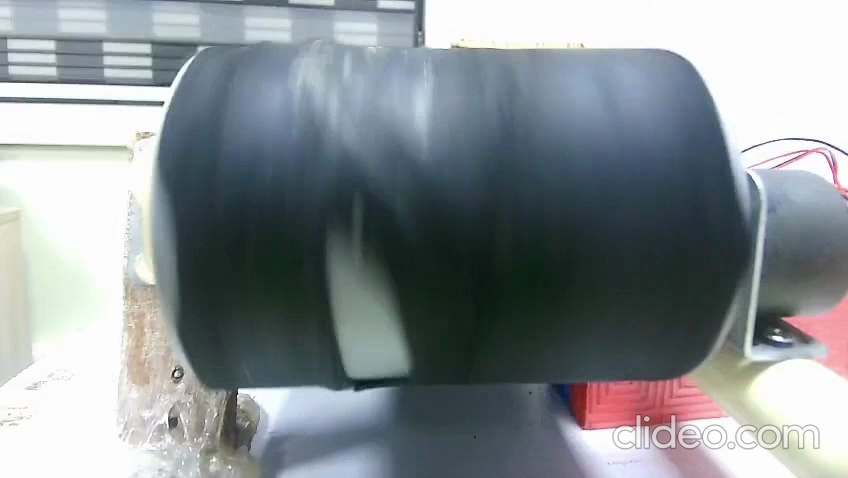hole: (318, 222, 416, 390)
